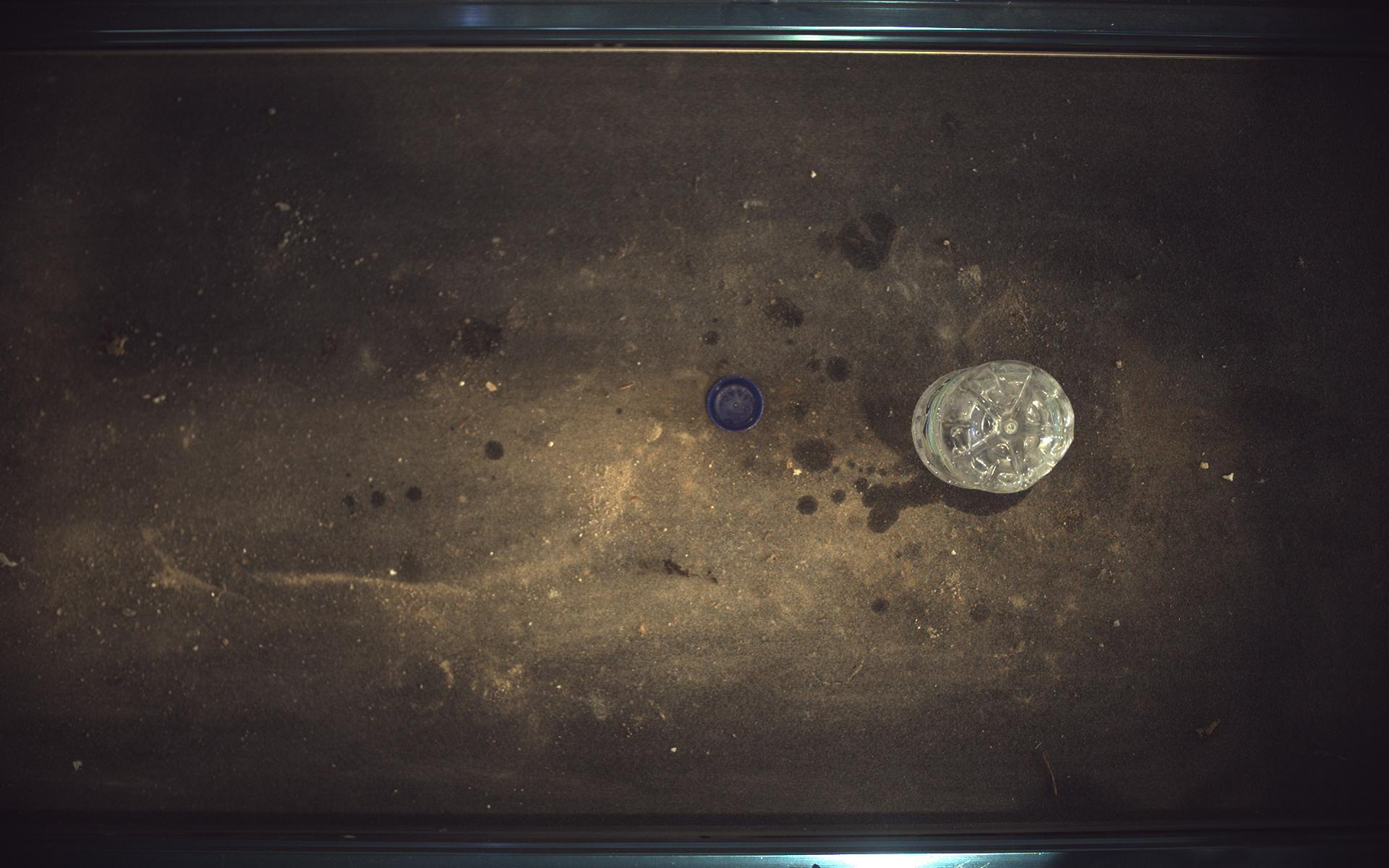general_w: (707, 375, 765, 433)
